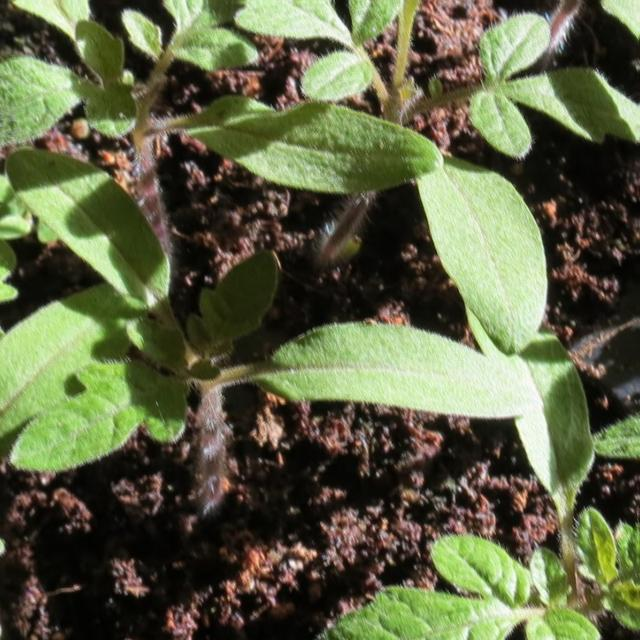Tomato leaf: (401, 135, 555, 355), (6, 153, 180, 344), (259, 316, 548, 428), (276, 581, 511, 640), (580, 0, 640, 176), (592, 366, 640, 541), (0, 509, 43, 640), (357, 0, 475, 28)
